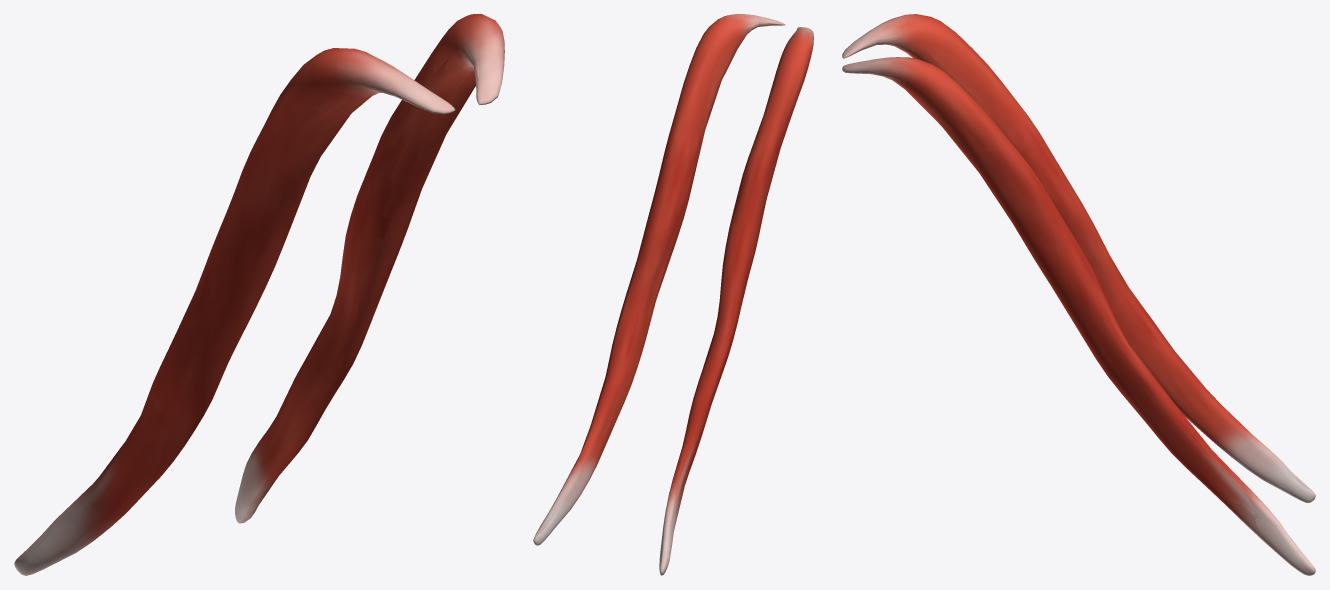
Rendered from omohyoideus.fbx.
3 renders of one model, left to right at view 1: azimuth 30°, elevation 25°; view 2: azimuth 150°, elevation 25°; view 3: azimuth 270°, elevation 25°, orthographic. The views are drawn at different scales.
Parts seen in each view (by area): view 1: omohyoideus, omohyoideus low; view 2: omohyoideus, omohyoideus low; view 3: omohyoideus, omohyoideus low.
Part boxes in pixels (x1=…): omohyoideus: x1=14, y1=14, x2=504, y2=575; omohyoideus low: x1=14, y1=15, x2=504, y2=573; omohyoideus: x1=533, y1=14, x2=813, y2=575; omohyoideus low: x1=533, y1=16, x2=813, y2=573; omohyoideus: x1=842, y1=14, x2=1315, y2=575; omohyoideus low: x1=850, y1=15, x2=1315, y2=573.
Size of the model in its own units: 15.06 by 45.75 by 39.09.
Materials: 1 (1 with a texture image).
